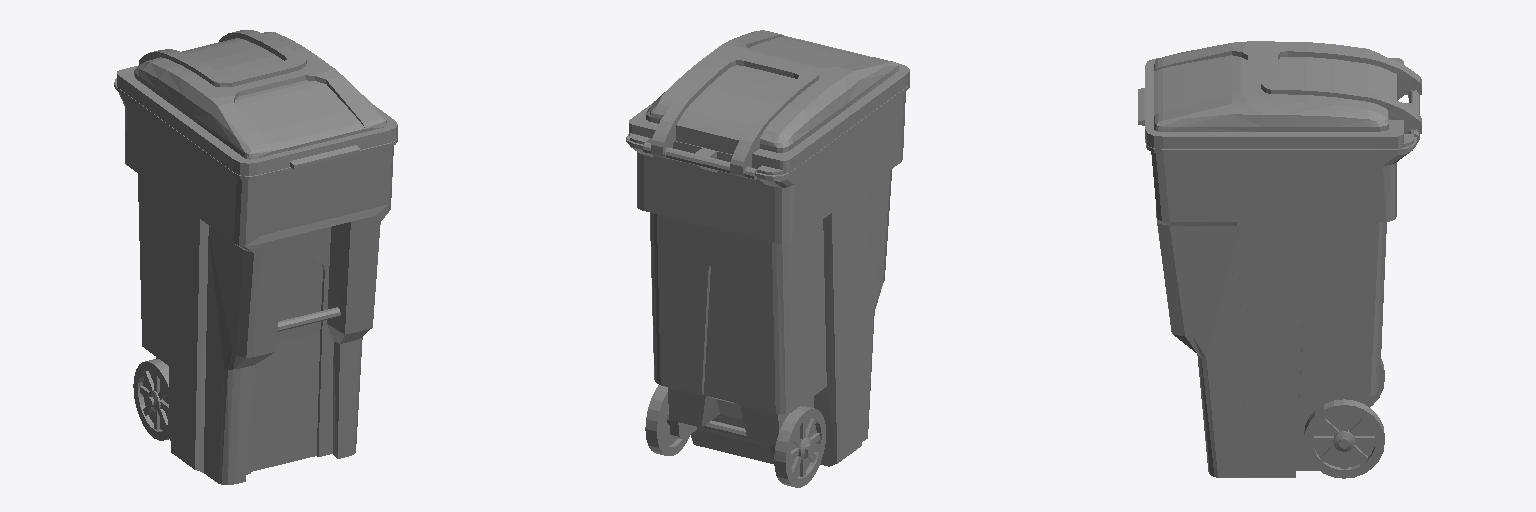
Rendered from trashbin_obj.obj.
The picture shows the model from 3 angles: view 1: azimuth 30°, elevation 25°; view 2: azimuth 150°, elevation 25°; view 3: azimuth 270°, elevation 25°; orthographic projection.
Visible parts, largest first — view 1: trashbin, lid; view 2: trashbin, lid; view 3: trashbin, lid.
Boxes of the visible parts, x1=… form: trashbin: x1=114, y1=78, x2=397, y2=484; lid: x1=117, y1=30, x2=397, y2=175; trashbin: x1=626, y1=84, x2=909, y2=487; lid: x1=629, y1=30, x2=909, y2=174; trashbin: x1=1145, y1=90, x2=1419, y2=478; lid: x1=1138, y1=41, x2=1421, y2=148.
Bounding box in the file's own units: 19.98 × 44.69 × 30.61.